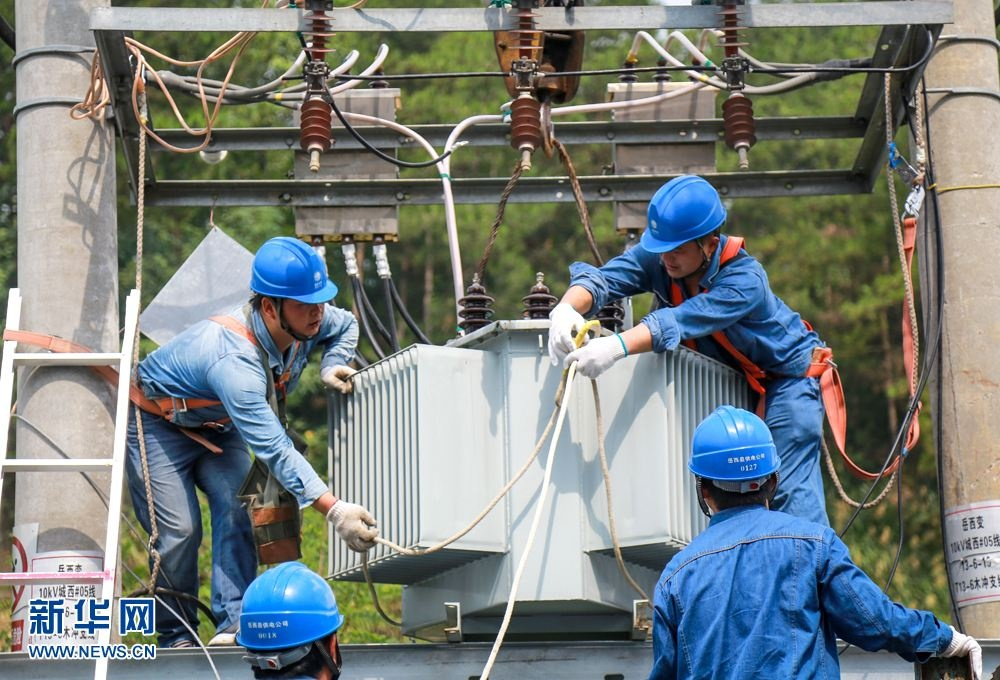blue: (231, 550, 352, 680), (683, 396, 786, 517), (637, 170, 730, 280), (245, 230, 334, 344)
